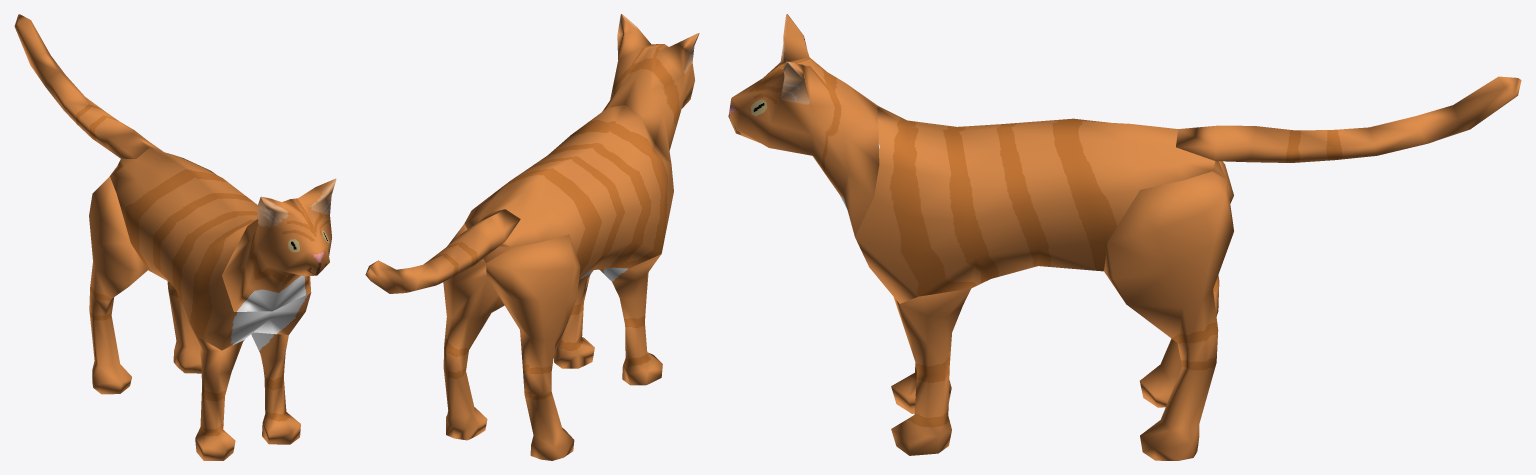
Rendered from newCat.glb.
3 renders of one model, left to right at view 1: azimuth 30°, elevation 25°; view 2: azimuth 150°, elevation 25°; view 3: azimuth 270°, elevation 25°, orthographic. The views are drawn at different scales.
Parts seen in each view (by area): view 1: Body, Head, BRLeg, Tail, FRLeg, FLLeg, BLLeg; view 2: Body, BRLeg, Head, BLLeg, Tail, FRLeg, FLLeg; view 3: Body, BLLeg, Head, Tail, FLLeg, BRLeg.
Part boxes in pixels (x1,y1,x2,y2): Body: [110, 148, 310, 350]; Head: [222, 178, 336, 311]; BRLeg: [89, 172, 147, 394]; Tail: [14, 14, 163, 158]; FRLeg: [189, 323, 244, 460]; FLLeg: [251, 332, 300, 444]; BLLeg: [167, 281, 201, 373]; Body: [464, 105, 673, 279]; BRLeg: [486, 234, 580, 460]; Head: [602, 14, 699, 163]; BLLeg: [443, 224, 504, 440]; Tail: [365, 209, 520, 293]; FRLeg: [599, 254, 662, 385]; FLLeg: [553, 270, 594, 368]; Body: [855, 106, 1226, 303]; BLLeg: [1104, 171, 1233, 460]; Head: [728, 14, 879, 236]; Tail: [1176, 76, 1521, 162]; FLLeg: [891, 288, 970, 455]; BRLeg: [1139, 161, 1233, 407].
Bounding box in the file's own units: 4.74 × 11.5 × 21.35.
1 material, 1 textured.
